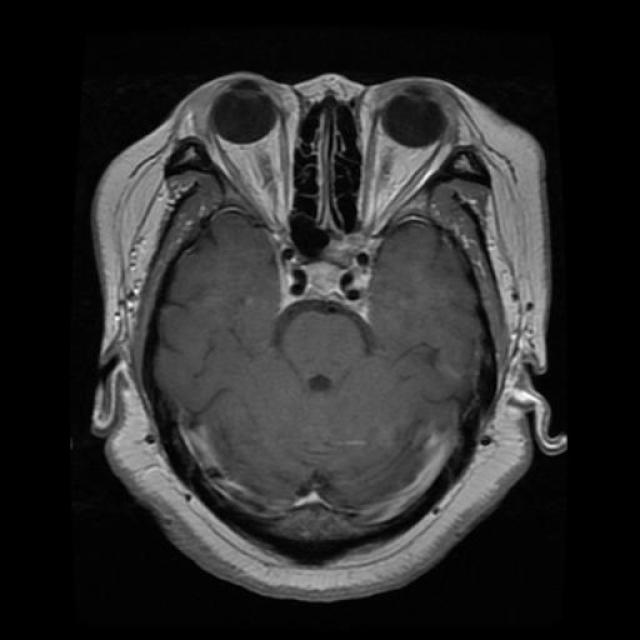pituitary: (256, 270, 394, 403)
